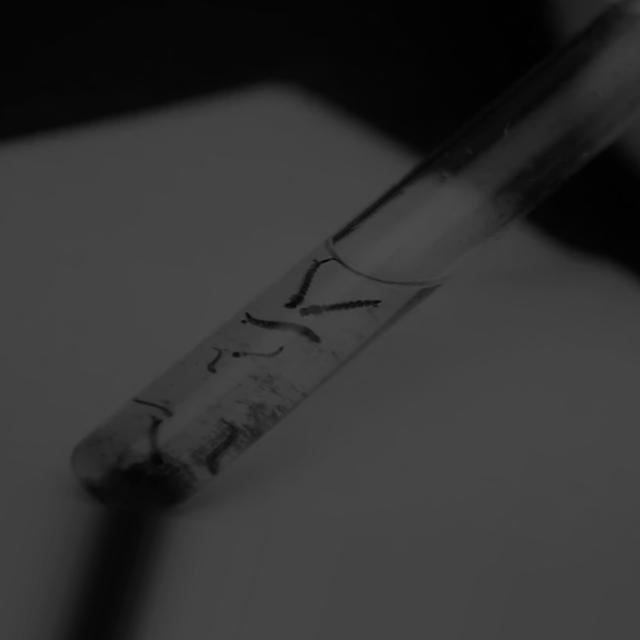larvas: (283, 256, 328, 310), (244, 312, 318, 344), (207, 427, 235, 469), (300, 301, 380, 315), (135, 398, 174, 417), (231, 348, 284, 360), (149, 420, 163, 460), (206, 348, 223, 372)
